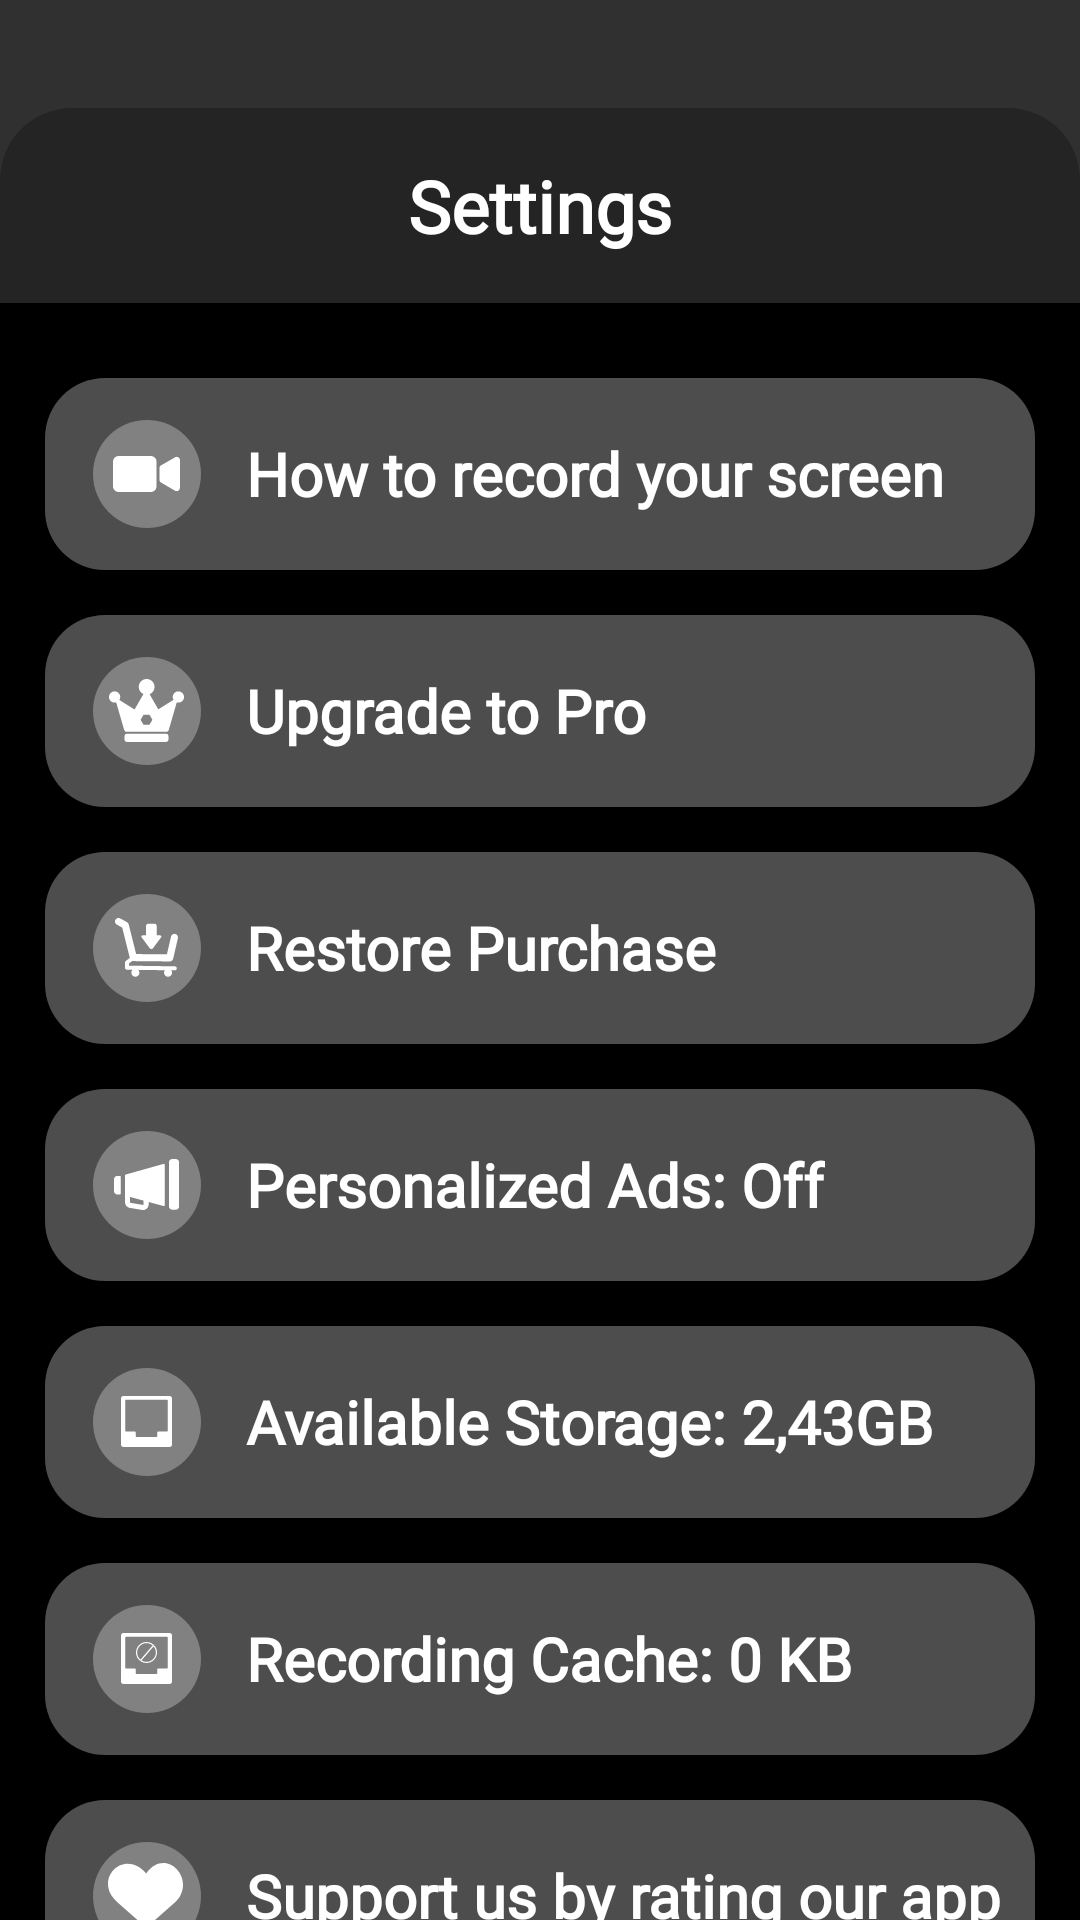

Where to tap for icons on this 1080w x 1920h app screen, as (x=x, y=y):
crown: (x=146, y=710)
noti ads: (x=146, y=1184)
recorder settings: (x=146, y=474)
